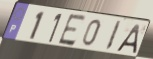0: (81, 18, 102, 48)
1: (28, 11, 46, 41), (48, 12, 63, 44)
A: (114, 23, 141, 55)
E: (56, 13, 88, 48)
I: (103, 20, 122, 52)
